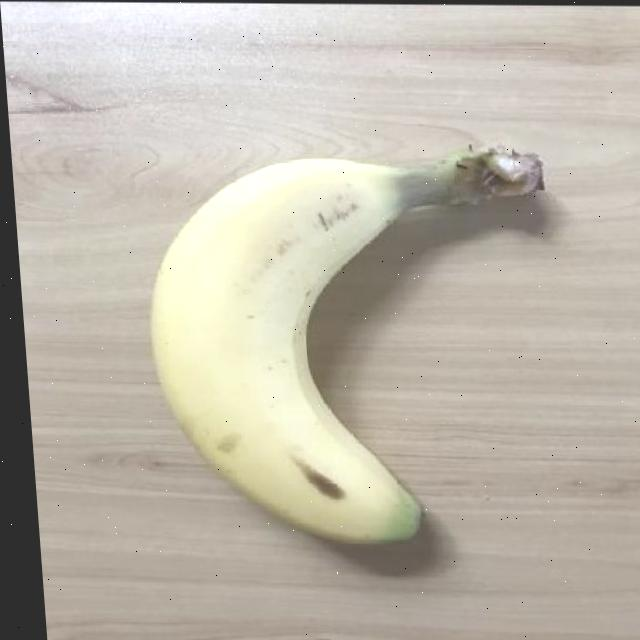banana: (134, 141, 577, 549)
